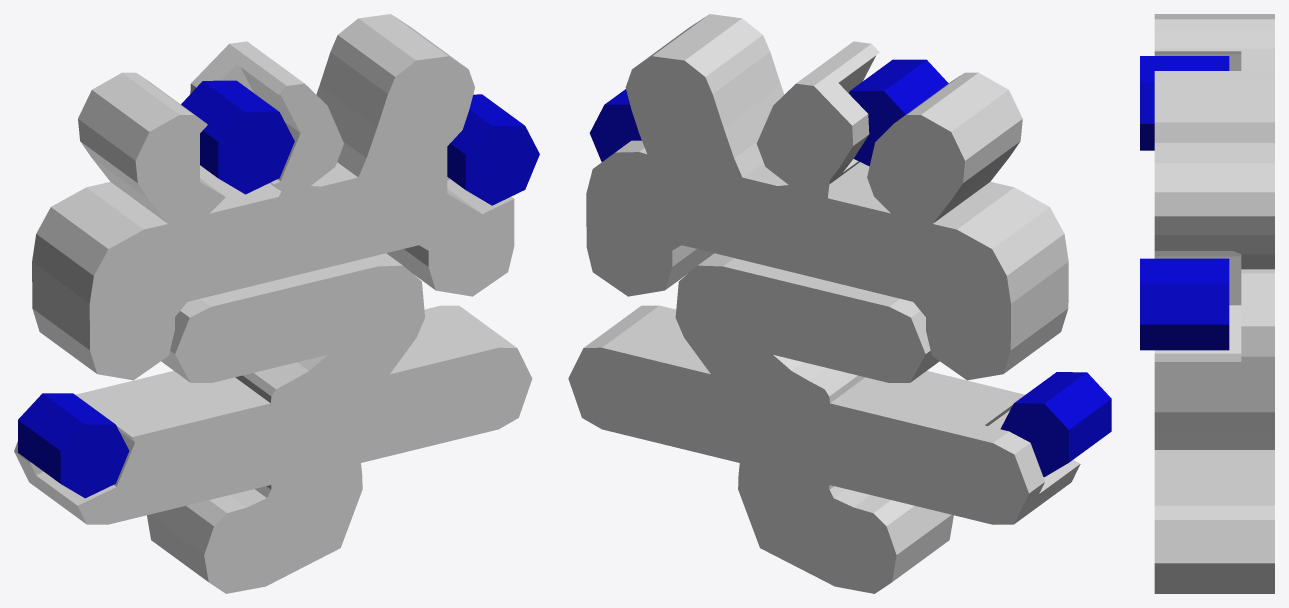
Rendered from Ch_Lite_China_学_01.fbx.
3 views of the same model, side by side, from view 1: azimuth 30°, elevation 25°; view 2: azimuth 150°, elevation 25°; view 3: azimuth 270°, elevation 25° (orthographic). The views are drawn at different scales.
Parts seen in each view (by area): view 1: sphere1; view 2: sphere1; view 3: sphere1.
Part boxes in pixels (<box>): sphere1: <box>14,14,539,593</box>; sphere1: <box>568,14,1111,593</box>; sphere1: <box>1140,14,1274,593</box>.
Bounding box in the file's own units: 0.9593 × 0.9478 × 0.2242.
